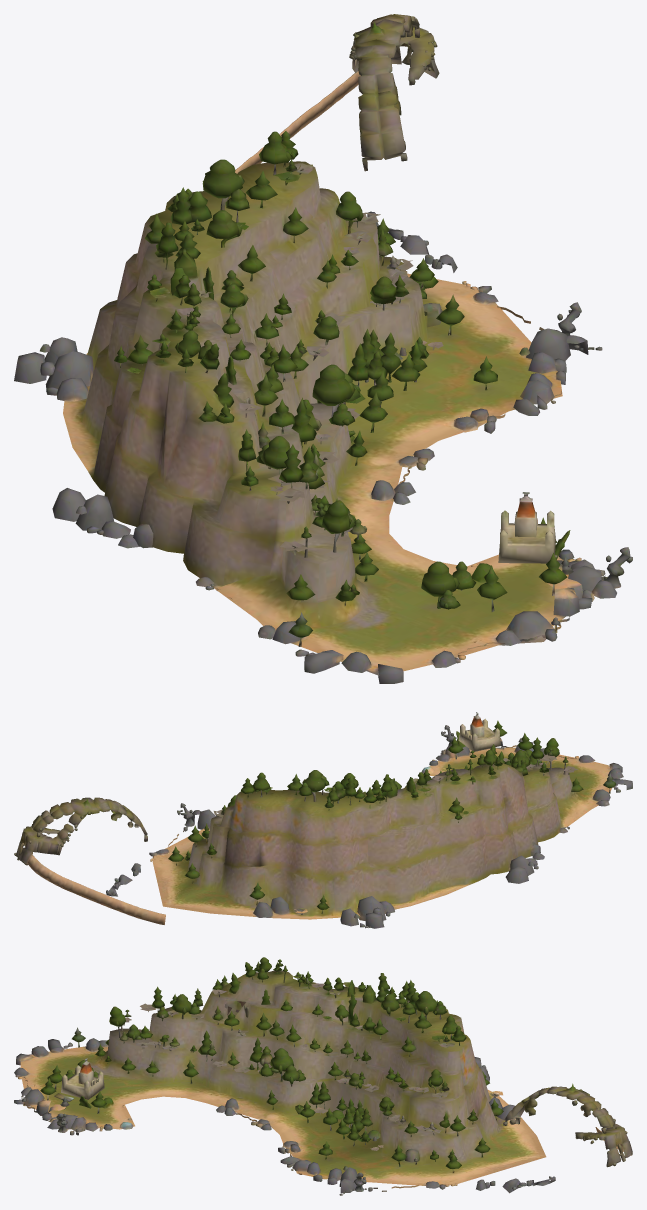
The picture shows the model from 3 angles, top to bottom: view 1: azimuth 30°, elevation 25°; view 2: azimuth 150°, elevation 25°; view 3: azimuth 270°, elevation 25°; orthographic projection. The views are drawn at different scales.
Visible parts, largest first — view 1: tripo_node_6ccfc062-c808-48ca-8751-26b2e4c42b95; view 2: tripo_node_6ccfc062-c808-48ca-8751-26b2e4c42b95; view 3: tripo_node_6ccfc062-c808-48ca-8751-26b2e4c42b95.
Boxes of the visible parts, x1,y1,x2,y2 form: tripo_node_6ccfc062-c808-48ca-8751-26b2e4c42b95: [14, 14, 632, 683]; tripo_node_6ccfc062-c808-48ca-8751-26b2e4c42b95: [14, 712, 632, 928]; tripo_node_6ccfc062-c808-48ca-8751-26b2e4c42b95: [14, 957, 632, 1195].
Size of the model in its own units: 80.59 by 25.55 by 116.
1 material, 1 textured.
